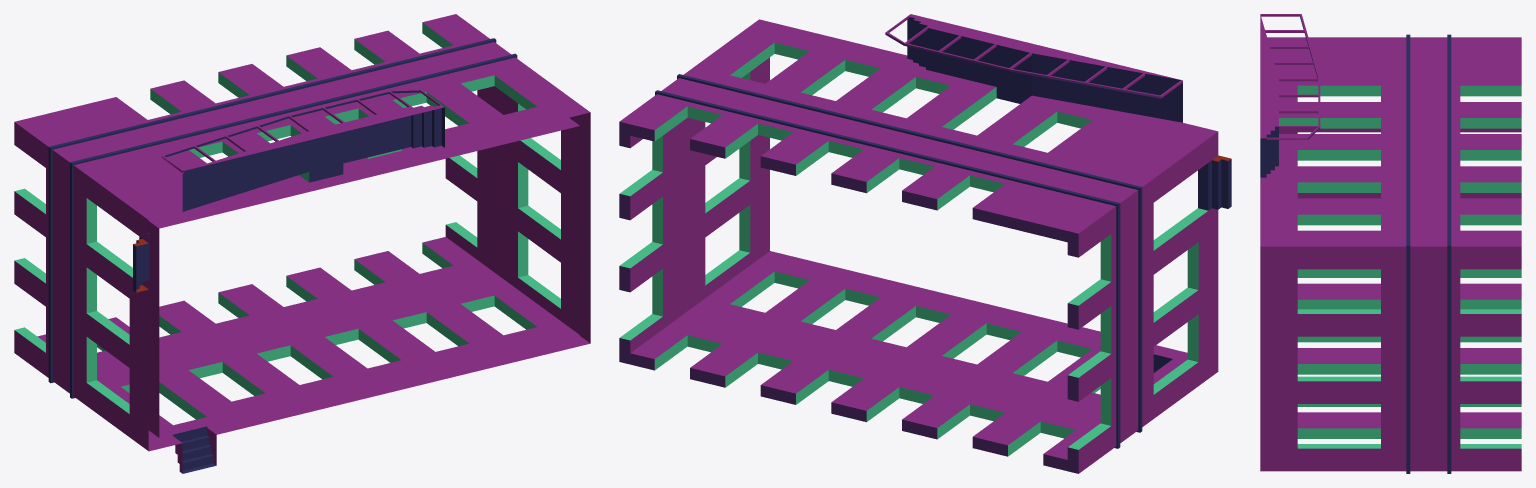
File: Dom_Staroscinski Tier 2.fbx
3 views of the same model, side by side, from view 1: azimuth 30°, elevation 25°; view 2: azimuth 150°, elevation 25°; view 3: azimuth 270°, elevation 25° (orthographic). The views are drawn at different scales.
Visible parts, largest first — view 1: Dom_Starościński; view 2: Dom_Starościński; view 3: Dom_Starościński.
Part boxes in pixels (box(x1,y1,x2,y2)): Dom_Starościński: box(14, 14, 590, 473); Dom_Starościński: box(619, 14, 1231, 473); Dom_Starościński: box(1260, 14, 1521, 473).
Size of the model in its own units: 3.67 by 2.33 by 1.88.
